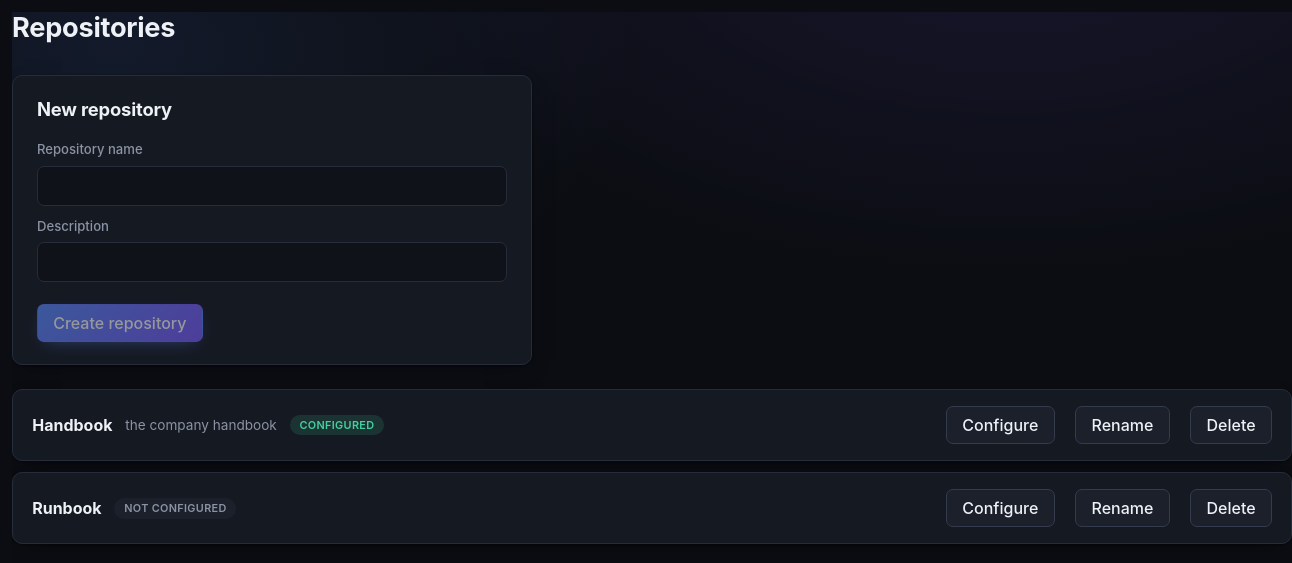
Test: AdminRepositoriesPage — rename & delete › deletes a repository after name confirmation
Click the button "Delete" in the row of "the company handbook": (1231, 425) [1190, 406, 1272, 444]
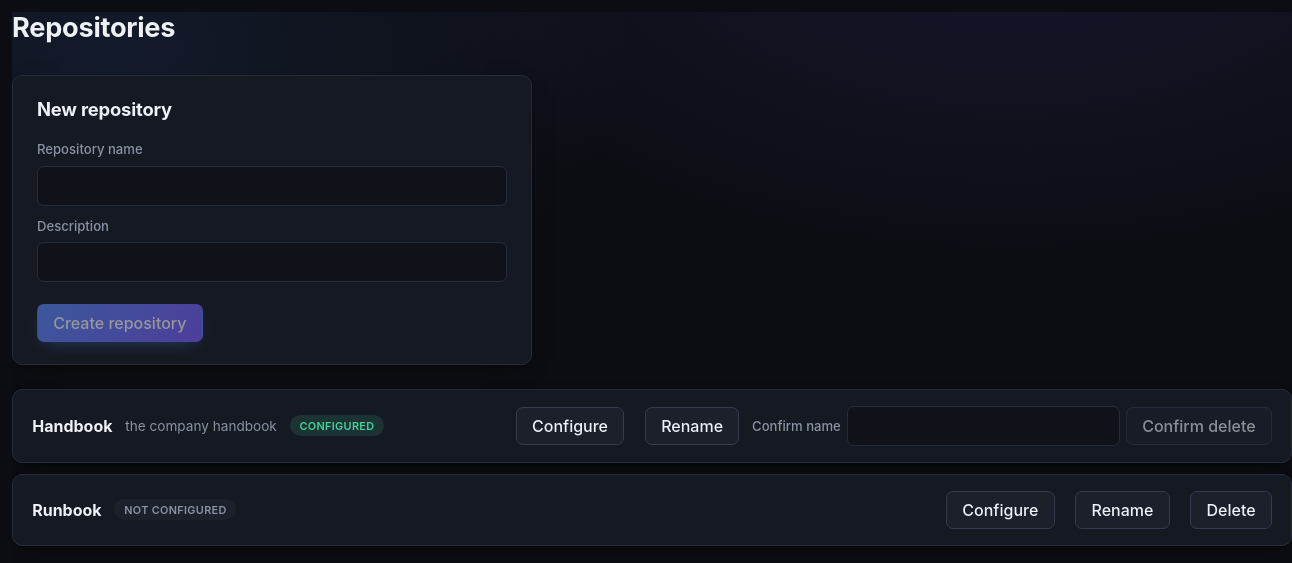
In the field labelled "Confirm name": (983, 426) [847, 406, 1120, 446], type "Handbook"
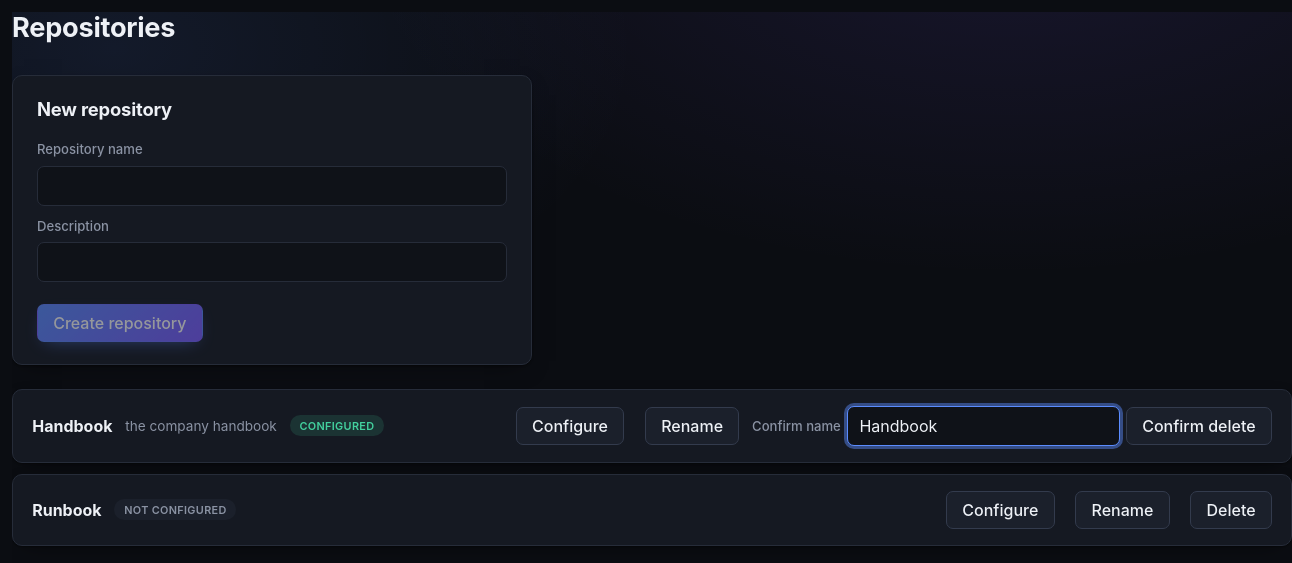
Click the button "Confirm delete": (1199, 426) [1126, 407, 1272, 445]
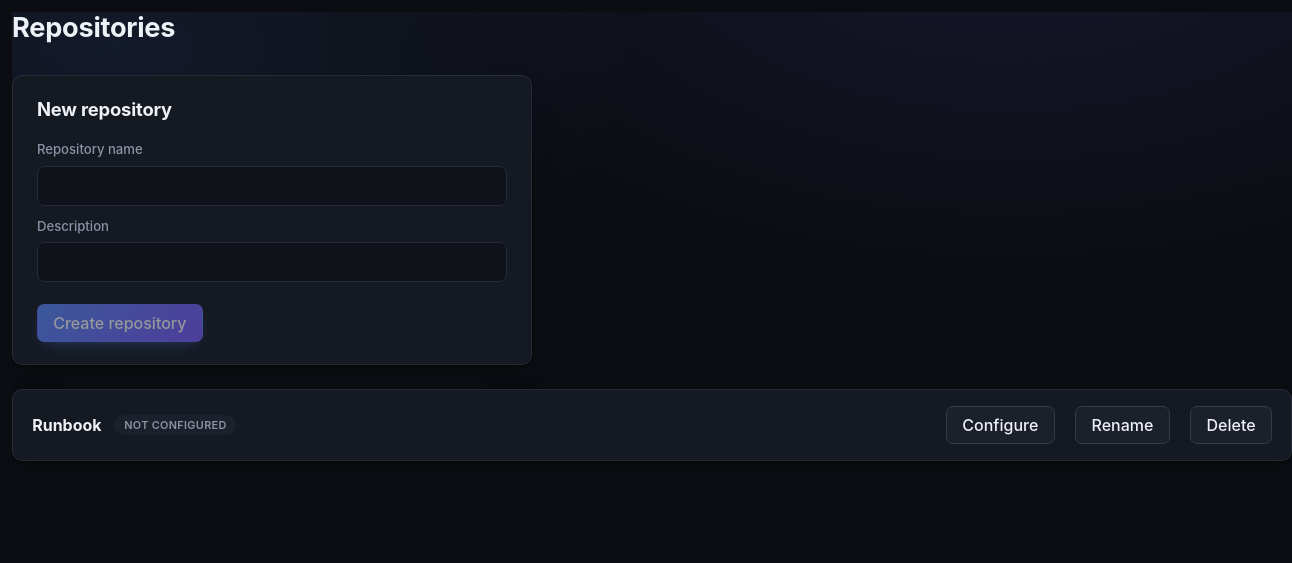
Check: the text "Handbook" is gone
